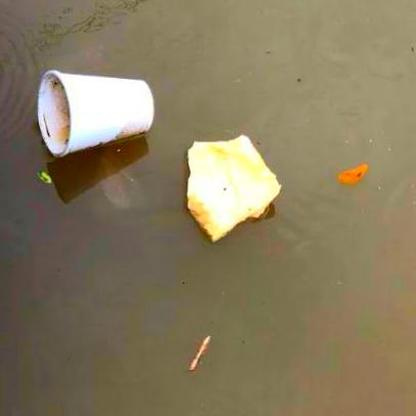foam: (187, 135, 282, 241)
